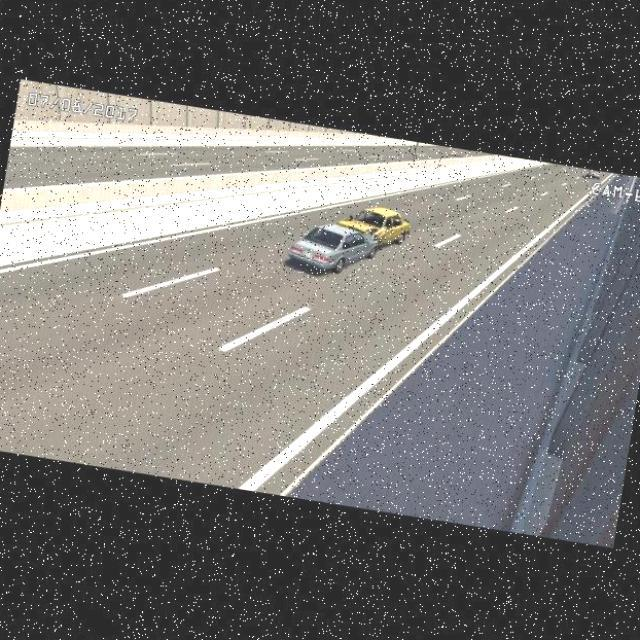accident: (285, 191, 417, 286)
